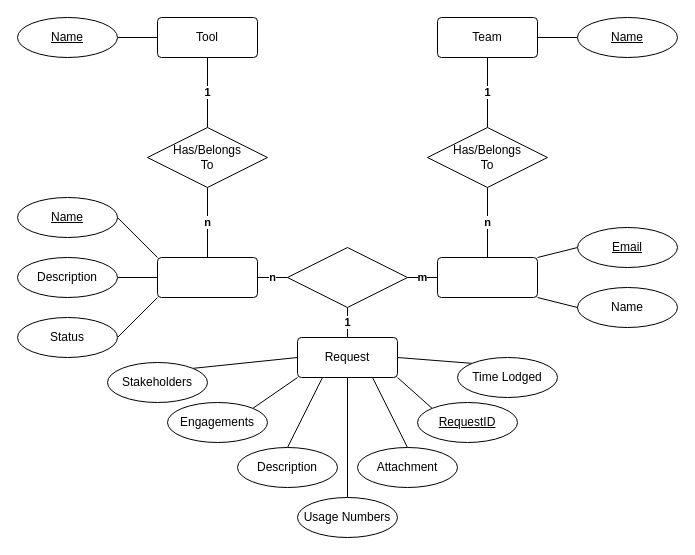
The diagram is 695 pixels wide and 555 high, and some of its shapes have lost their labels. Here are the shapes that lost their labels. From the top down, the box of each, then its label:
(156, 256, 258, 298): Feature
(286, 246, 408, 308): ...To Enhance ...By...
(436, 256, 538, 298): User
